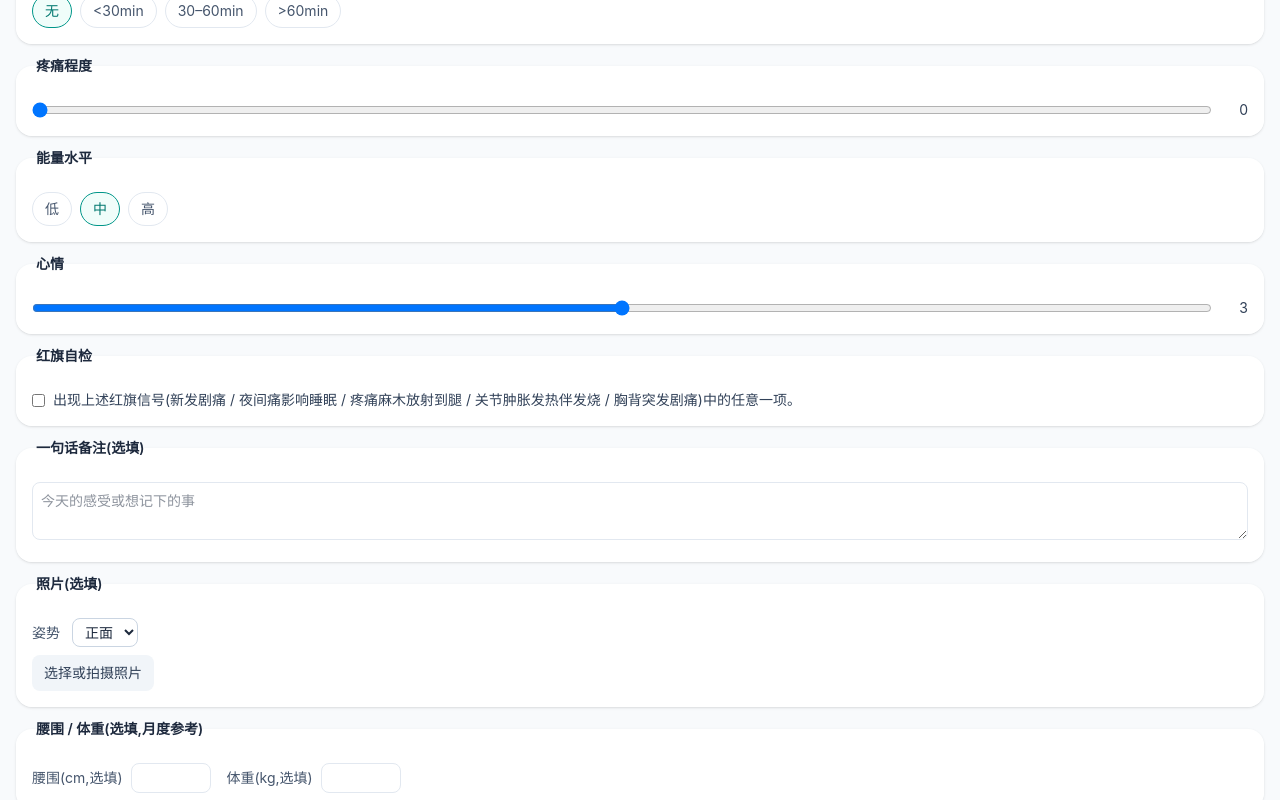
Test case: CheckInPage › 勾选红旗自检提交后提示休息 + 就医
(page scrolled)
Click the checkbox labelled "出现上述红旗信号": (38, 400) [32,394,45,407]
(page scrolled)
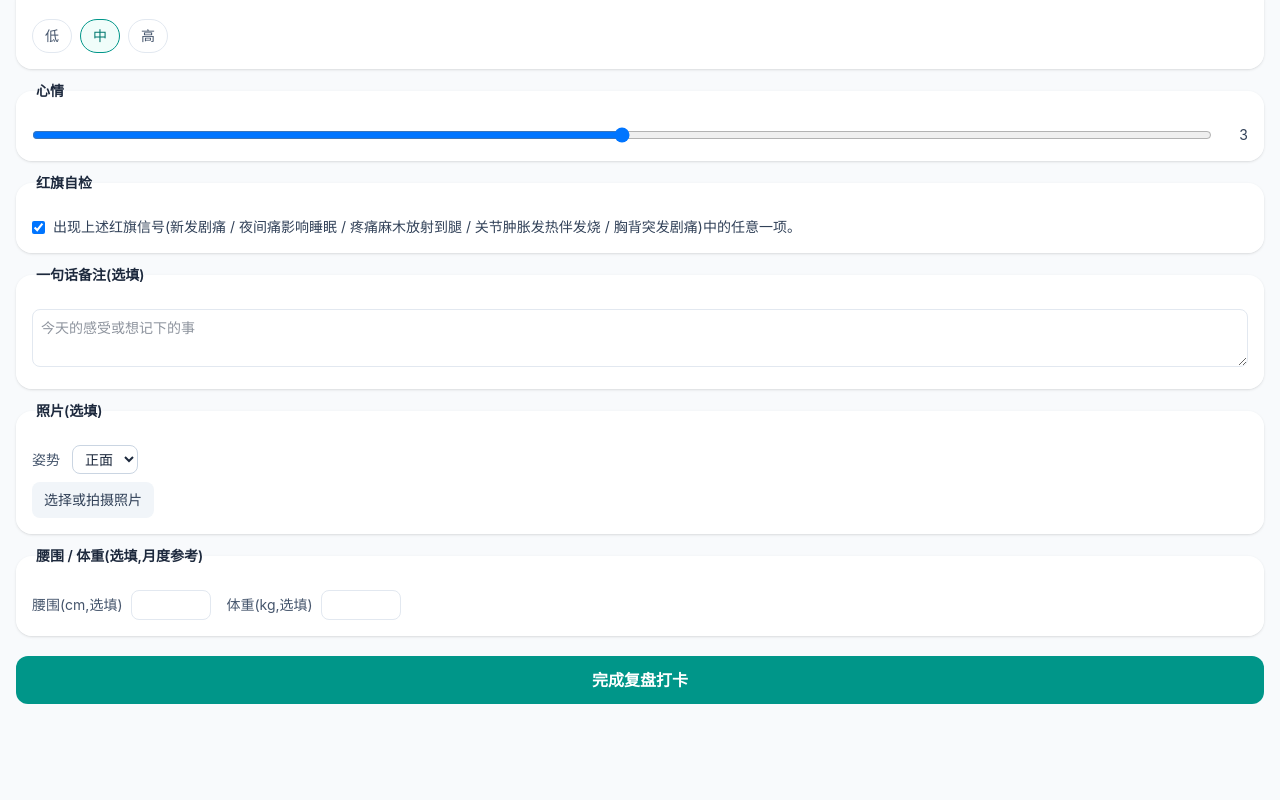
Click the button "完成复盘打卡": (640, 680) [16,656,1264,704]
(page scrolled)
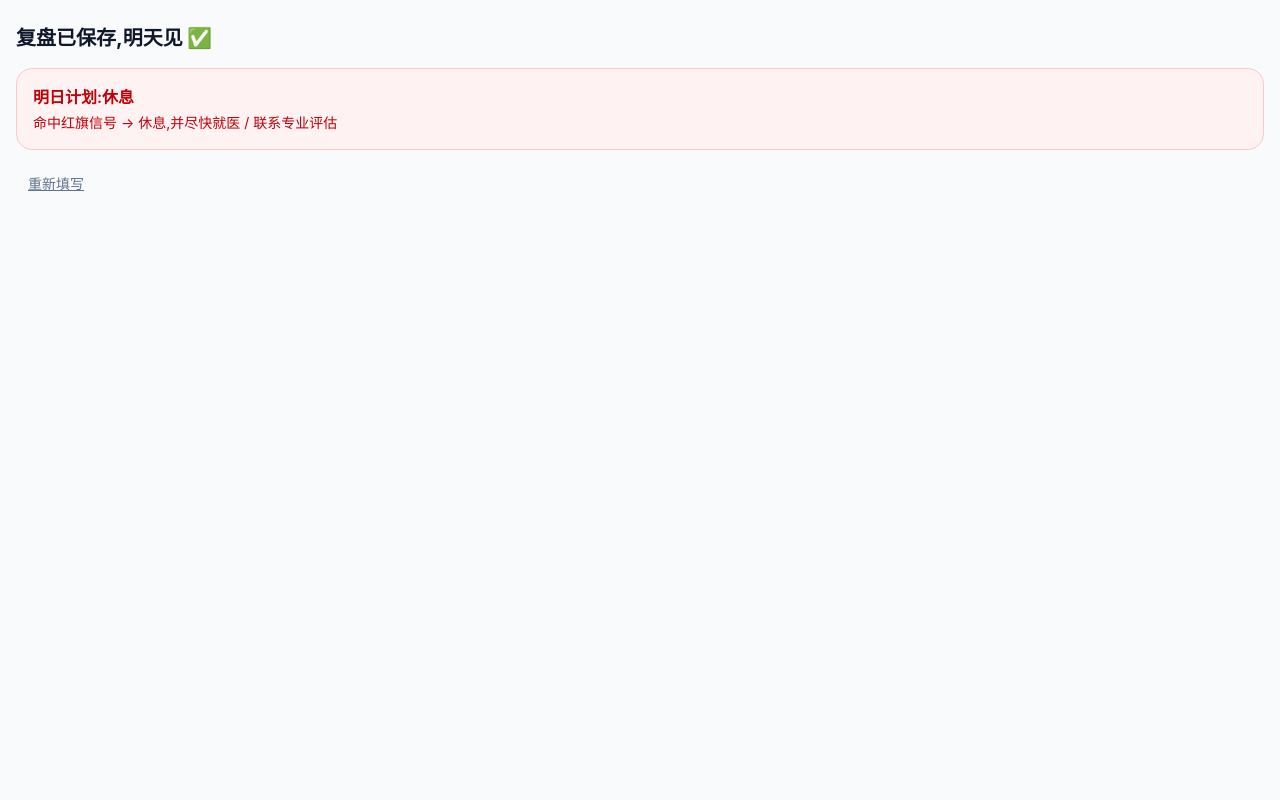
Check: the heading "明日计划:休息" is shown, box [33,87,134,107]
Check: the text "命中红旗信号 → 休息,并尽快就医 / 联系专业评估" is shown, box [33,114,337,131]
